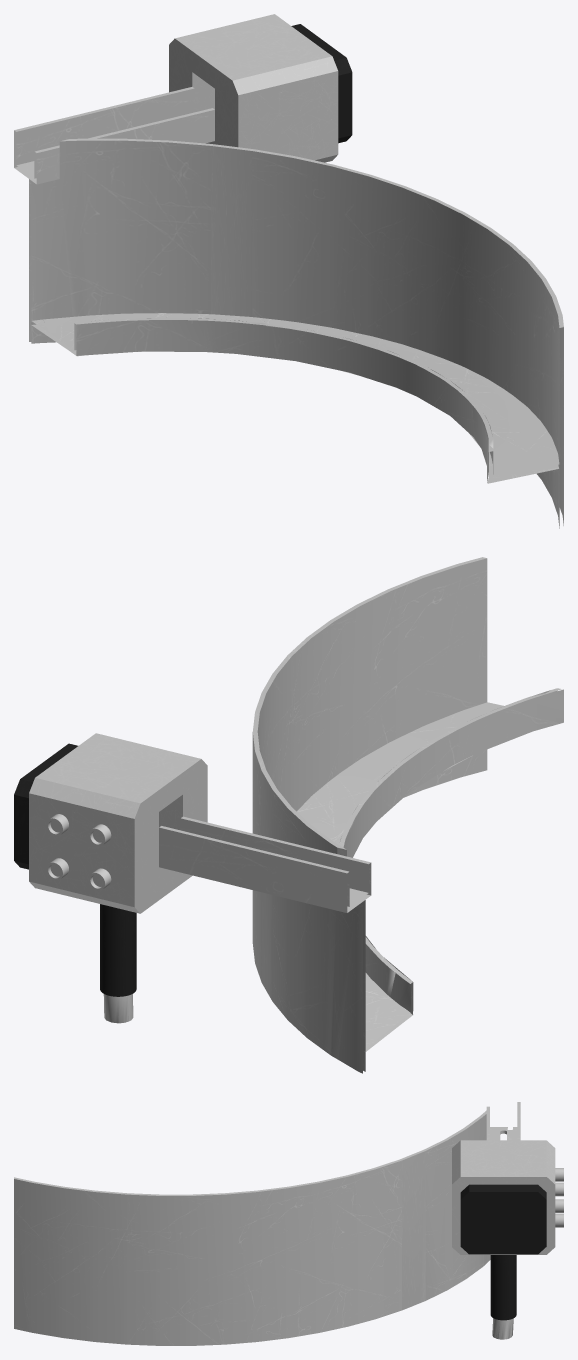
File: TightenerStation_Cube03.glb
3 views of the same model, one above another, from view 1: azimuth 30°, elevation 25°; view 2: azimuth 150°, elevation 25°; view 3: azimuth 270°, elevation 25° (orthographic). The views are drawn at different scales.
Parts seen in each view (by area): view 1: color-2.002; view 2: color-2.002; view 3: color-2.002.
Part boxes in pixels (bbox=[...]): color-2.002: bbox=[14, 14, 563, 528]; color-2.002: bbox=[14, 557, 563, 1073]; color-2.002: bbox=[14, 1102, 563, 1345].
Bounding box in the file's own units: 0.1492 × 0.113 × 0.319.
Materials: 3 (3 with a texture image).
